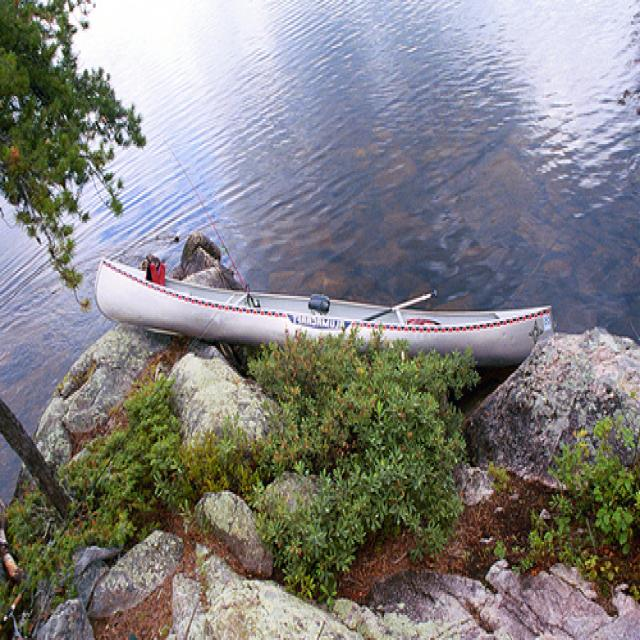boat: (93, 255, 555, 370)
